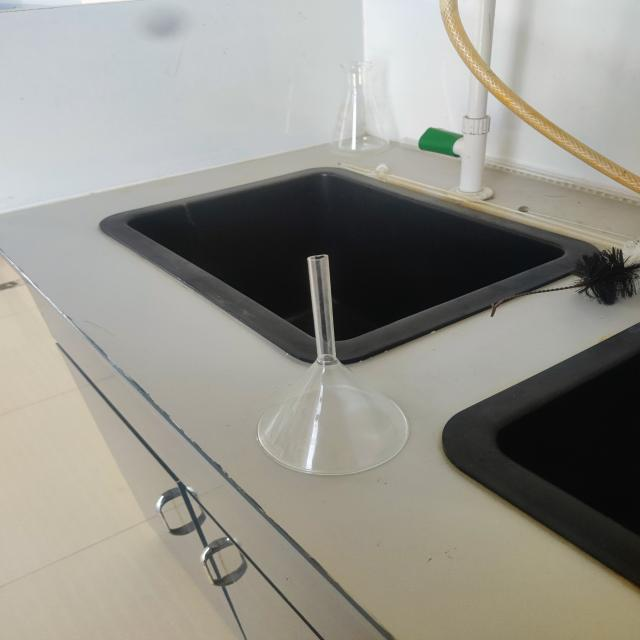Funnel: (231, 234, 428, 492)
